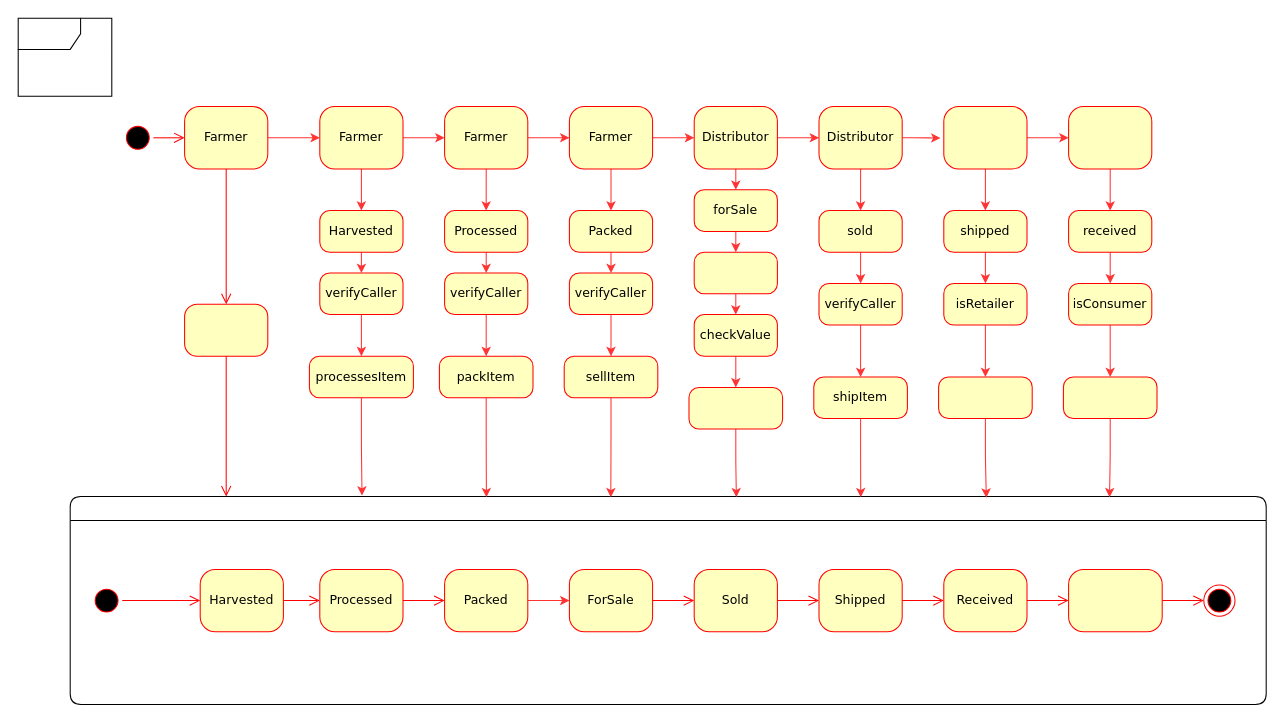
Image size: 1284x723. Some labels were removed from this diagram. The shapes that lost their labels are listed below. From the top down, each one's box as (x1, y1, x2, y2) in pixels, then its label:
(17, 17, 112, 96): frame
(943, 106, 1027, 169): Retailer
(1068, 106, 1152, 169): Consumer
(693, 251, 777, 294): paidEnough
(184, 303, 268, 356): harvestItem
(688, 386, 783, 429): buyItem
(938, 376, 1032, 419): receiveItem
(1062, 376, 1157, 419): purchaseItem
(69, 496, 1266, 705): Coffee State
(1068, 568, 1162, 632): Purchased
